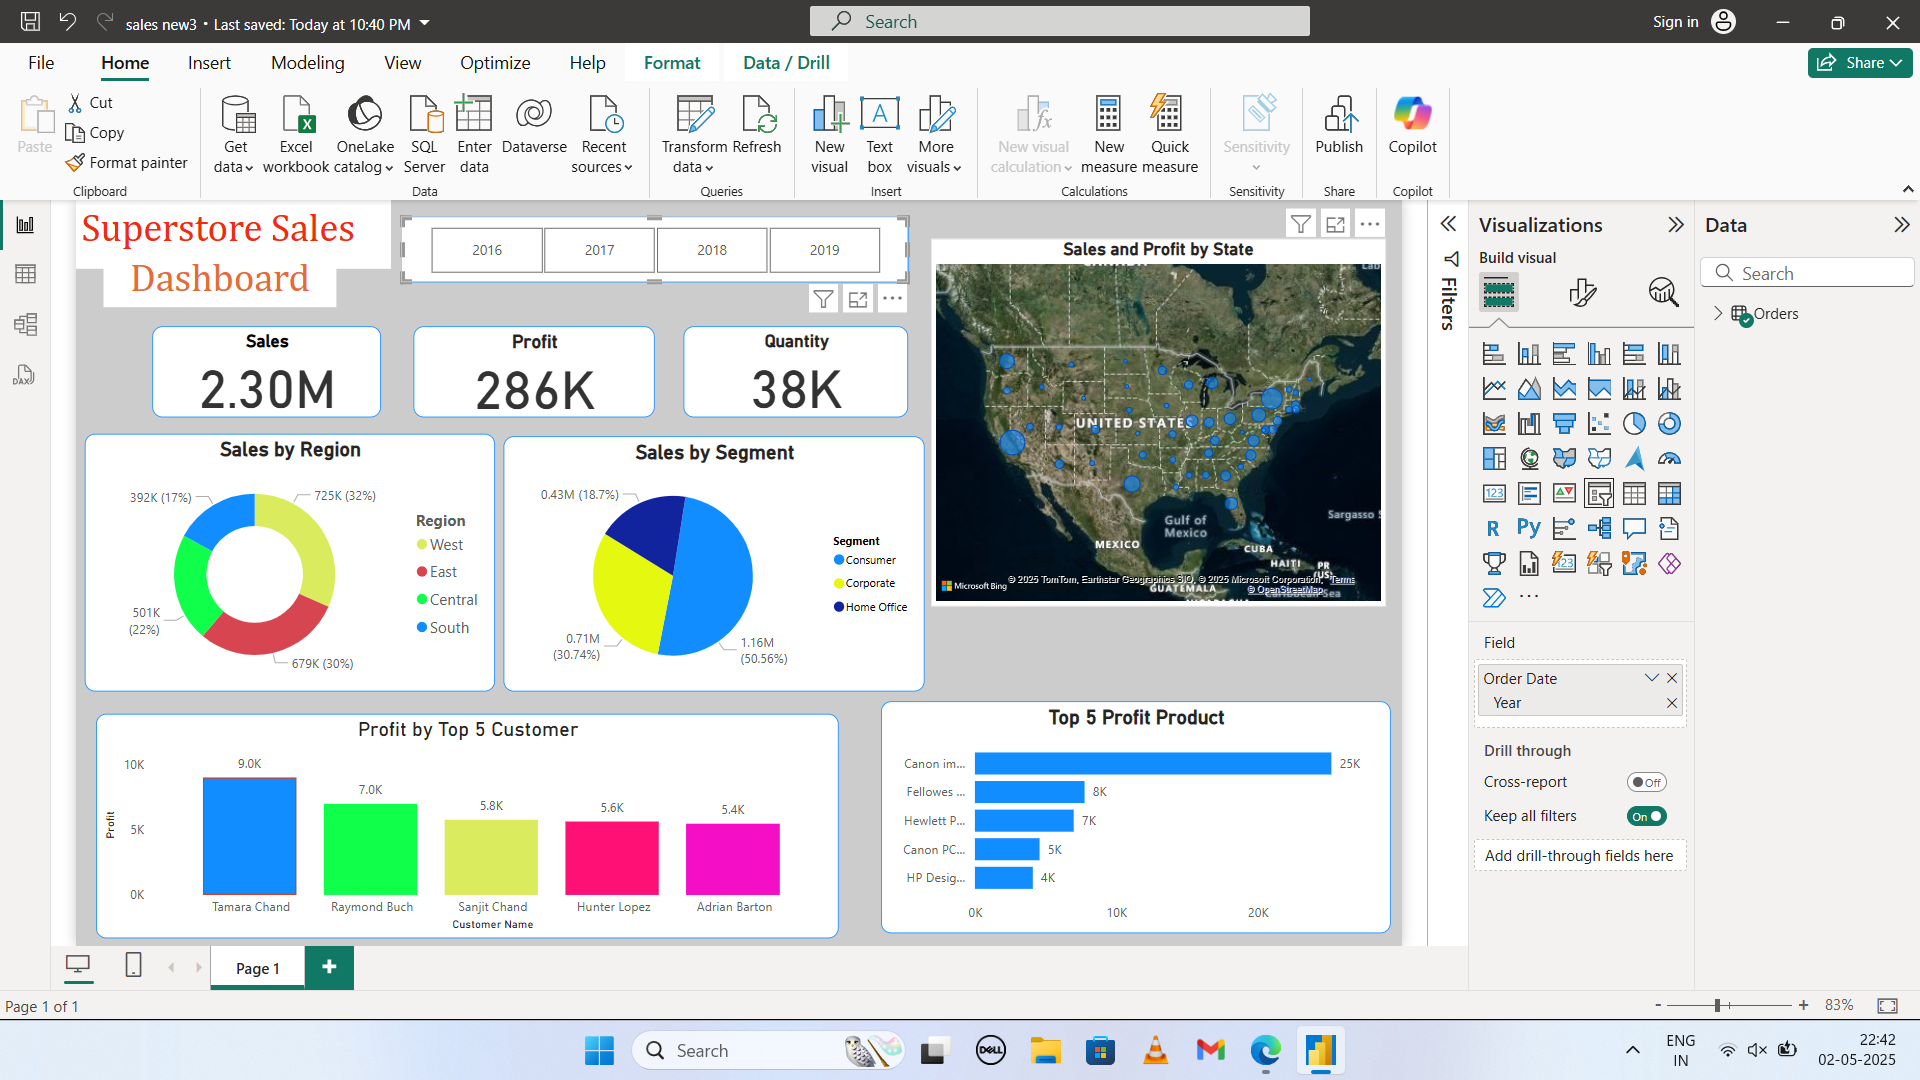

What the dashboard file says about the page in this screenshot:
{"tool":"powerbi","page":{"name":"Page 1","canvas":[1280,720],"ordinal":0},"visuals":[{"type":"pieChart","fields":{"Y":["Sum(Orders.Sales)"],"Category":["Orders.Segment"]},"box":[412.6,228,406.6,246.1],"z":1000},{"type":"donutChart","title":"Sales by Region","fields":{"Category":["Orders.Region"],"Y":["Sum(Orders.Sales)"]},"box":[8.4,225.6,395.7,248.5],"z":2000},{"type":"columnChart","title":"Profit by Top 5 Customer","fields":{"Category":["Orders.Customer Name"],"Y":["Sum(Orders.Profit)"]},"box":[19.3,495.8,716.6,217.2],"z":3000},{"type":"clusteredBarChart","title":"Top 5 Profit Product","fields":{"Category":["Orders.Product Name"],"Y":["Sum(Orders.Profit)"]},"box":[776.9,483.8,492.2,224.4],"z":4000},{"type":"map","title":"Sales and Profit by State","fields":{"Size":["Sum(Orders.Sales)"],"Category":["Orders.State"]},"box":[825.2,37.4,439.1,354.7],"z":5000},{"type":"card","title":"Sales","fields":{"Values":["Sum(Orders.Sales)"]},"box":[73.6,121.9,220.8,88.1],"z":6000},{"type":"card","title":"Quantity","fields":{"Values":["Sum(Orders.Quantity)"]},"box":[586.3,121.9,217.2,88.1],"z":7000},{"type":"card","title":"Profit","fields":{"Values":["Sum(Orders.Profit)"]},"box":[325.7,121.9,232.8,88.1],"z":8000},{"type":"slicer","fields":{"Values":["Orders.Order Date.Variation.Date Hierarchy.Year"]},"box":[313.8,16.2,490,63.8],"z":9000},{"type":"textbox","box":[0,0,303.8,66.2],"z":10000},{"type":"textbox","box":[26.2,48.8,225,55],"z":11000}]}

Visuals, with their boxes on the page's 1280x720 design canvas (x1, y1, x2, y2). These are canvas units, not pixel positions in the 1920x1080 screenshot, which may show the page scaled, cropped or inside an application window:
pieChart - Sum(Orders.Sales) x Orders.Segment: [left=413, top=228, right=819, bottom=474]
"Sales by Region" donutChart: [left=8, top=226, right=404, bottom=474]
"Profit by Top 5 Customer" columnChart: [left=19, top=496, right=736, bottom=713]
"Top 5 Profit Product" clusteredBarChart: [left=777, top=484, right=1269, bottom=708]
"Sales and Profit by State" map: [left=825, top=37, right=1264, bottom=392]
"Sales" card: [left=74, top=122, right=294, bottom=210]
"Quantity" card: [left=586, top=122, right=804, bottom=210]
"Profit" card: [left=326, top=122, right=558, bottom=210]
slicer - Orders.Order Date.Variation.Date Hierarchy.Year: [left=314, top=16, right=804, bottom=80]
textbox: [left=0, top=0, right=304, bottom=66]
textbox: [left=26, top=49, right=251, bottom=104]
